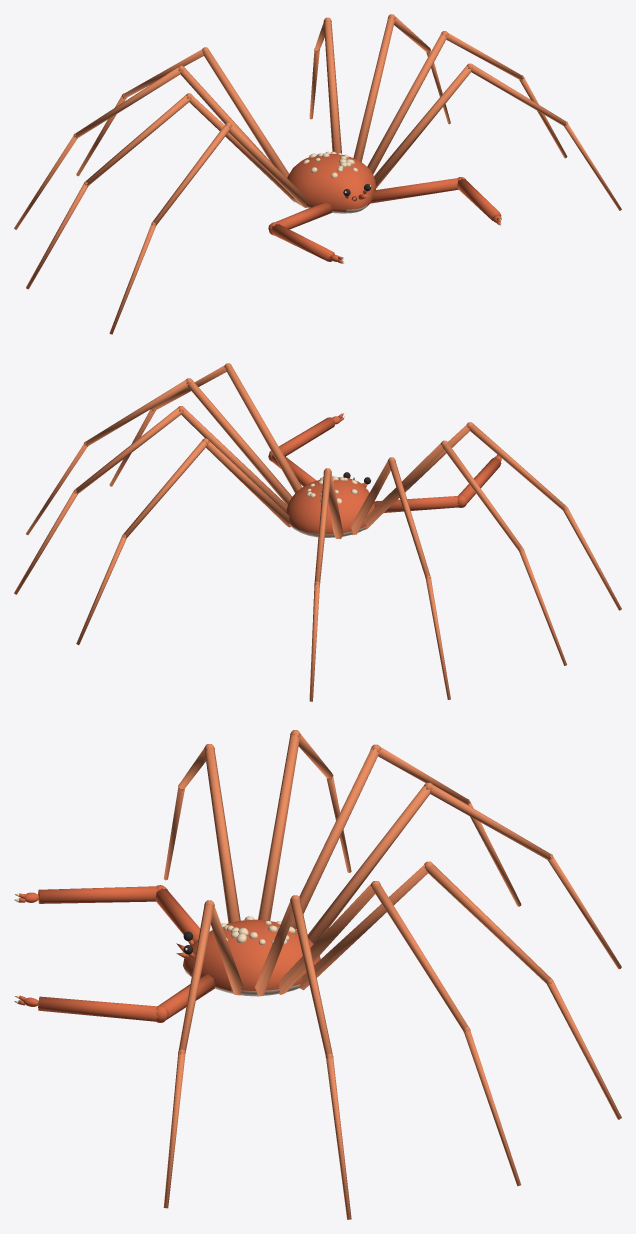
Rendered from sea-spider-crab.glb.
3 views of the same model, one above another, from view 1: azimuth 30°, elevation 25°; view 2: azimuth 150°, elevation 25°; view 3: azimuth 270°, elevation 25° (orthographic). The views are drawn at different scales.
Parts seen in each view (by area): view 1: crab; view 2: crab; view 3: crab.
Part boxes in pixels (x1=…): crab: x1=14, y1=14, x2=621, y2=334; crab: x1=14, y1=363, x2=621, y2=701; crab: x1=14, y1=730, x2=621, y2=1219.
Bounding box in the file's own units: 0.8207 × 0.2554 × 0.6025.
